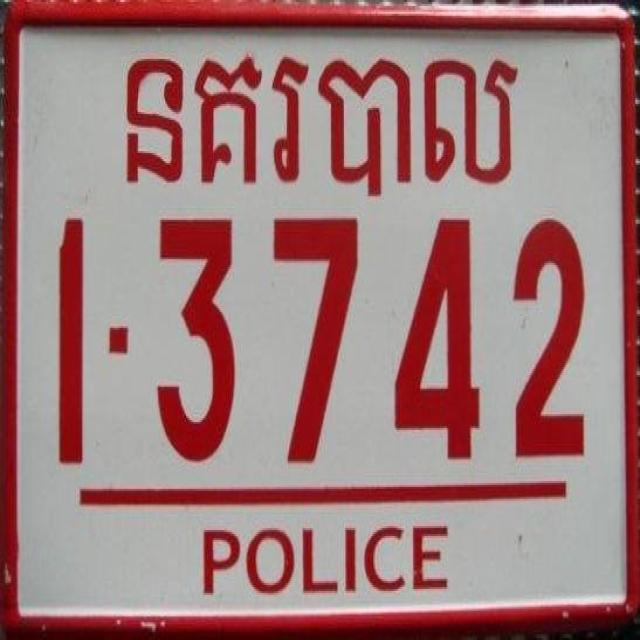Police: (124, 51, 518, 194)
